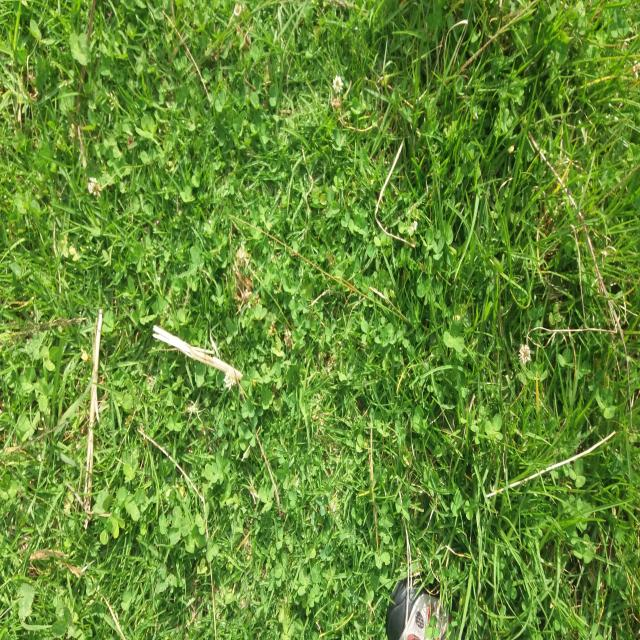Four Leaf Clover: (264, 262, 276, 286)
